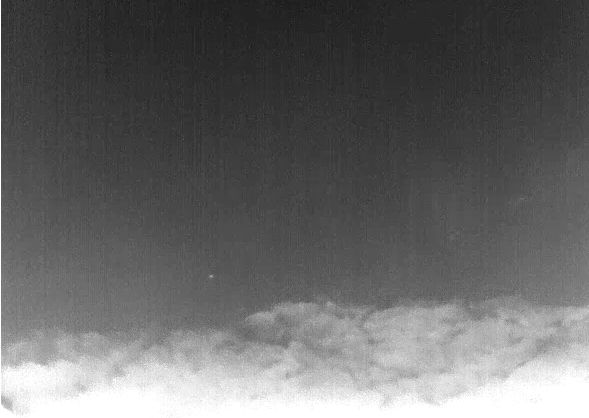dim target: (207, 273, 215, 279)
